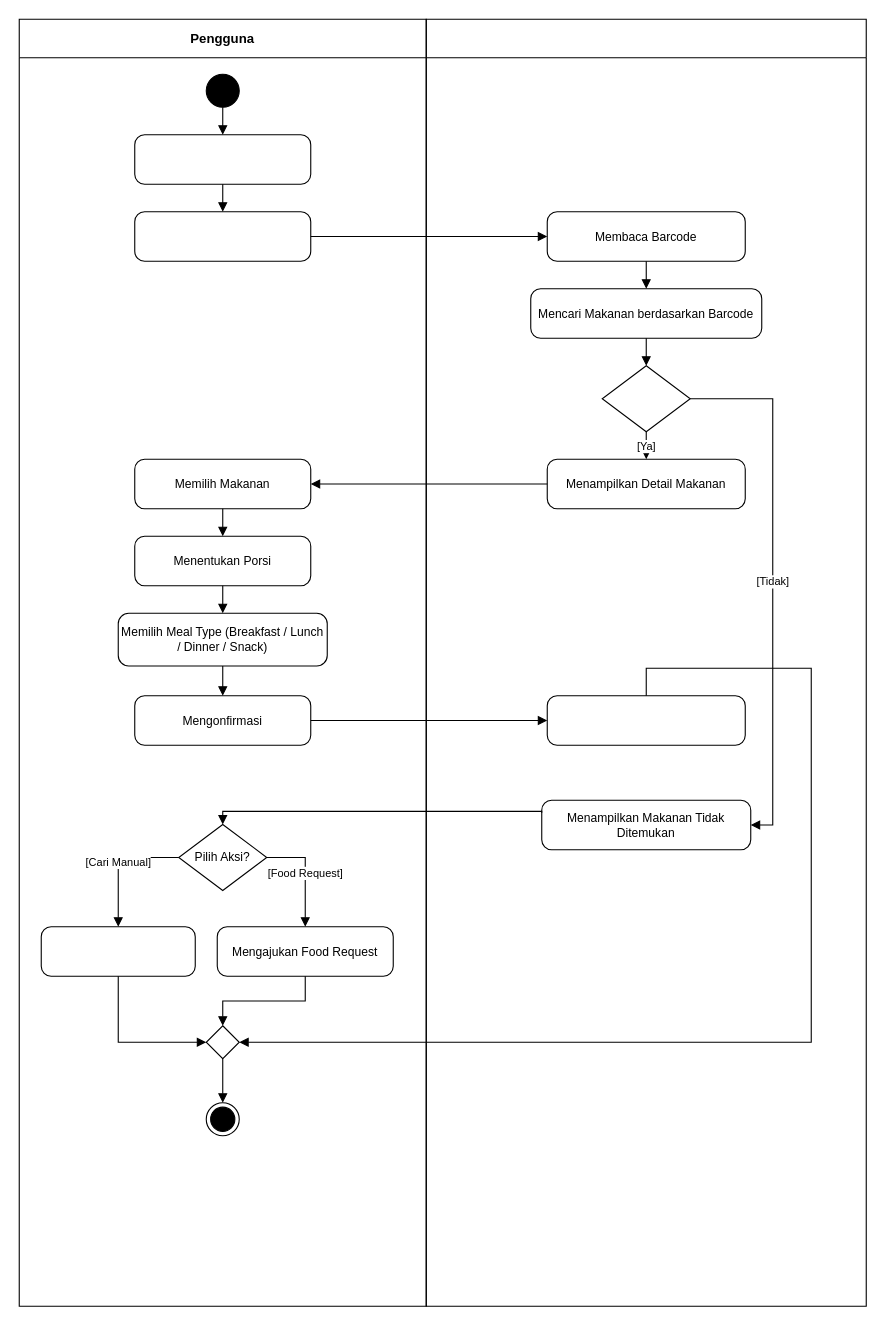
Image size: 886x1326. Some labels were removed from this diagram. Here are the shapes that lost their labels. From the top down, the box of each, then its label:
(134, 134, 311, 184): Membuka Barcode Scanner
(134, 211, 311, 261): Memindai Barcode
(601, 365, 690, 432): Makanan Ditemukan?
(425, 18, 866, 1306): Sistem
(546, 695, 745, 745): Menyimpan ke Food Diary
(40, 926, 195, 976): Mencari Makanan
